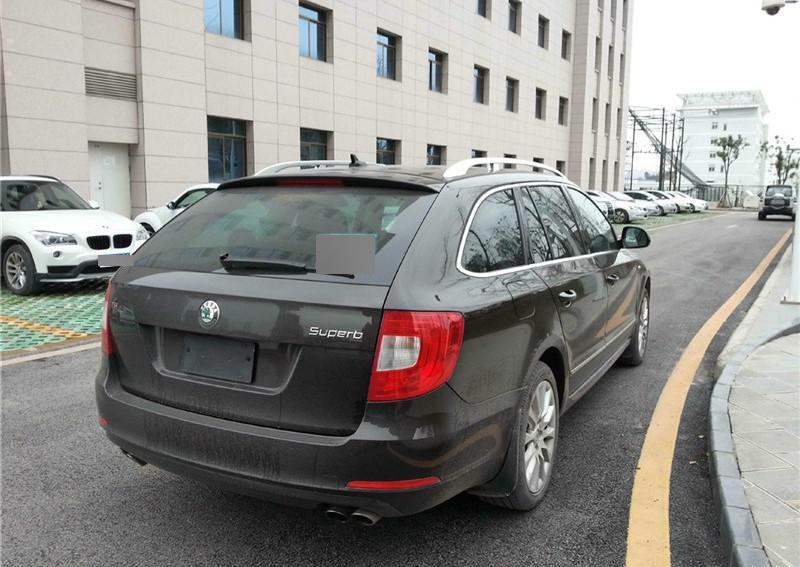Wagon: (94, 153, 653, 527)
